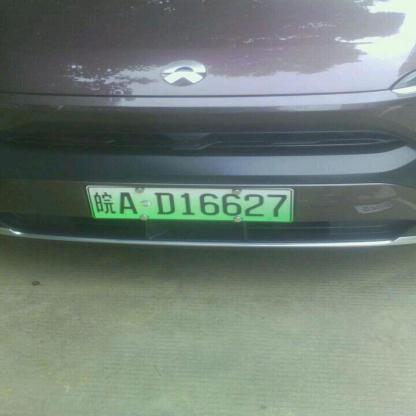lp: (85, 186, 292, 221)
